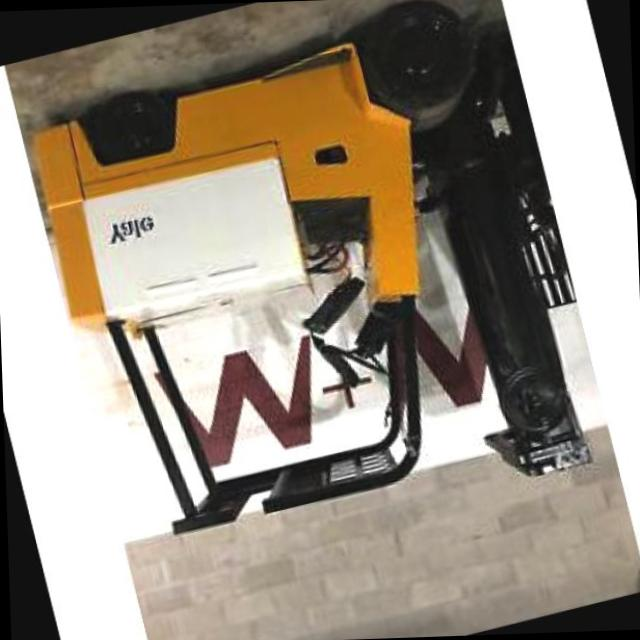forklift: (27, 0, 584, 566)
